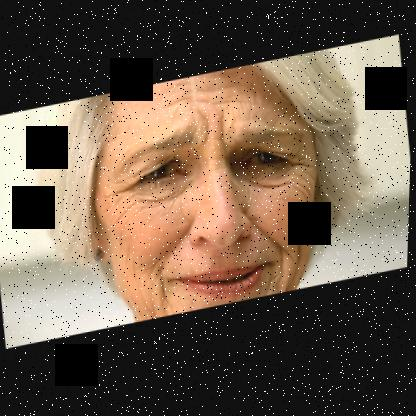Female: (70, 56, 337, 334)
